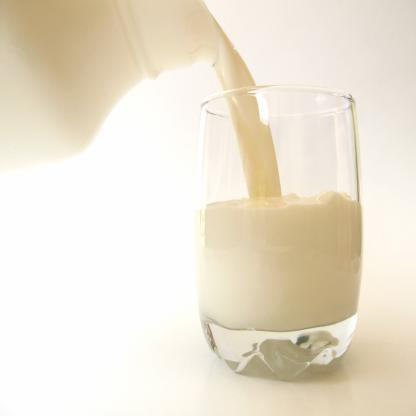milk: (194, 59, 362, 383)
